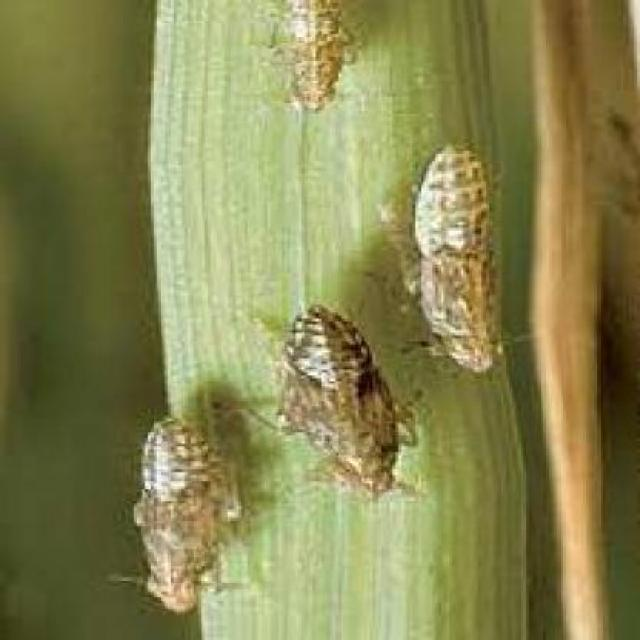brown-planthopper: (274, 304, 398, 493), (408, 143, 506, 369), (129, 411, 237, 611), (280, 0, 351, 109)
